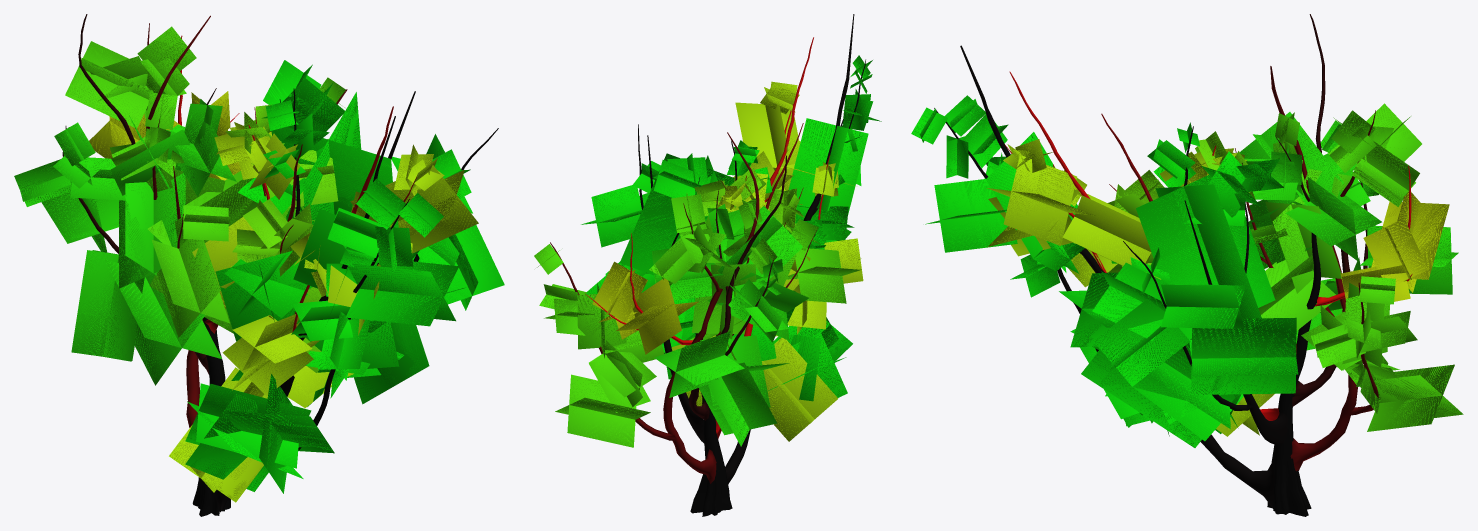
The model's file is Type_1_Tree_15.fbx.
The picture shows the model from 3 angles, left to right: view 1: azimuth 30°, elevation 25°; view 2: azimuth 150°, elevation 25°; view 3: azimuth 270°, elevation 25°; orthographic projection. The views are drawn at different scales.
Parts seen in each view (by area): view 1: Leaf, Trunk; view 2: Leaf, Trunk; view 3: Leaf, Trunk.
Boxes of the visible parts, <box> form: Leaf: <box>14,26,504,502</box>; Trunk: <box>62,14,498,516</box>; Leaf: <box>534,55,881,447</box>; Trunk: <box>550,14,865,516</box>; Leaf: <box>911,95,1463,447</box>; Trunk: <box>934,14,1412,516</box>.
Size of the model in its own units: 2868 by 4084 by 4423.
